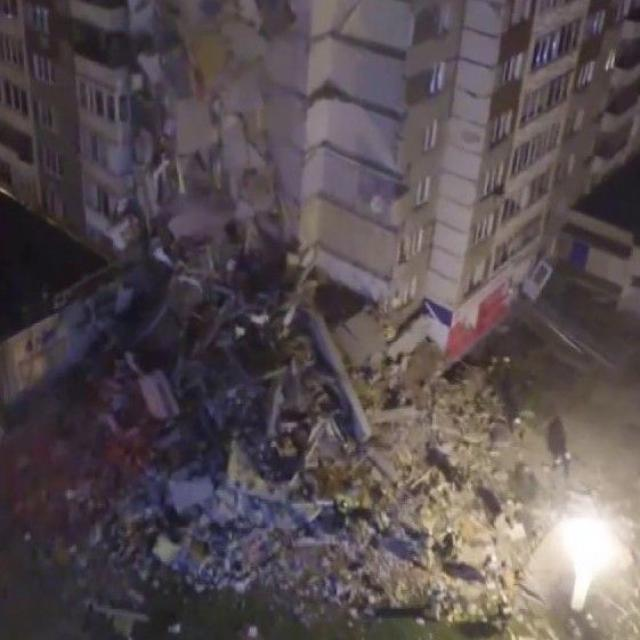collapsed_building: (138, 2, 468, 604)
